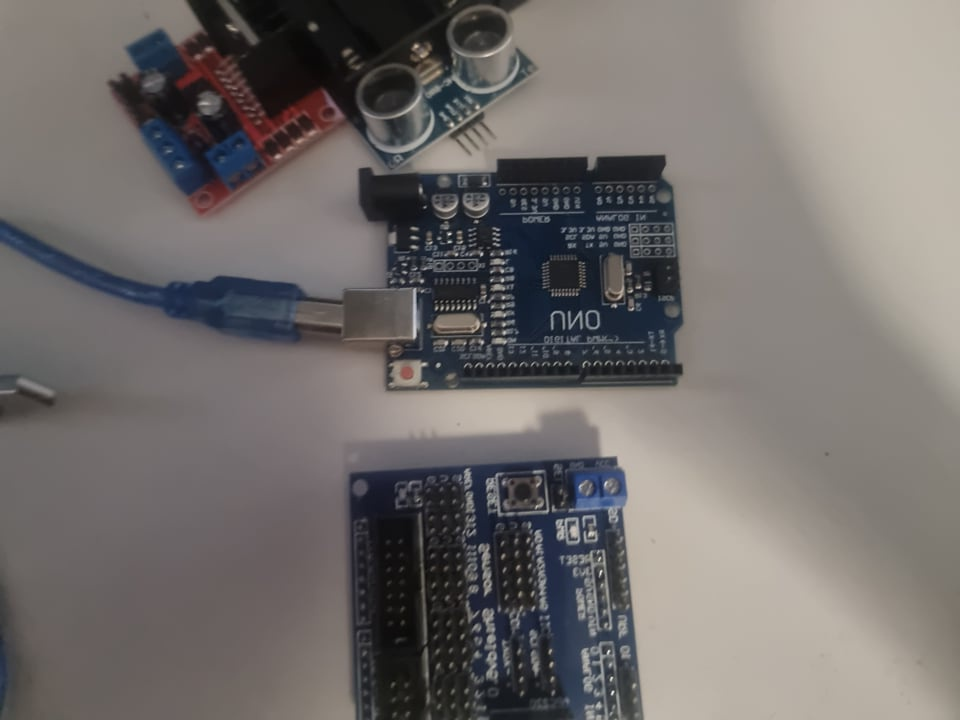5V EXPANSION: (351, 454, 646, 720)
MOTOR: (104, 3, 338, 223)
SENSOR: (350, 6, 537, 164)
UNO R3: (338, 144, 692, 400)
